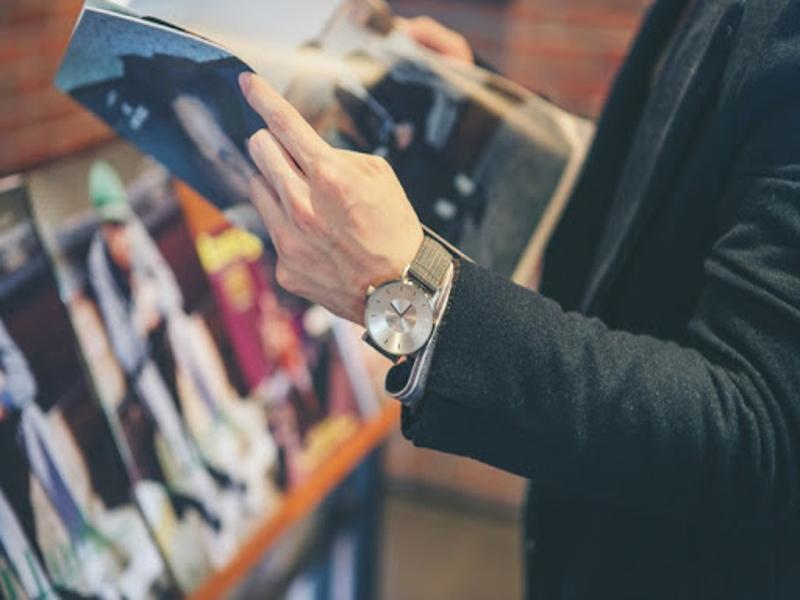watch: (359, 232, 458, 365)
